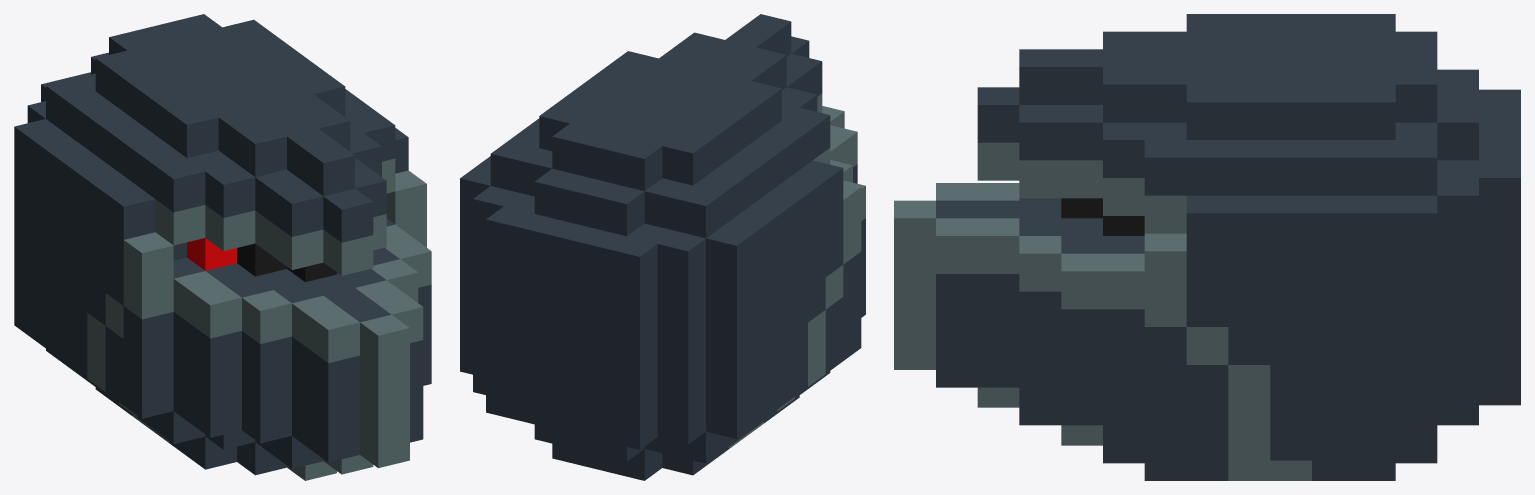
The model's file is Head.obj.
3 renders of one model, left to right at view 1: azimuth 30°, elevation 25°; view 2: azimuth 150°, elevation 25°; view 3: azimuth 270°, elevation 25°, orthographic. The views are drawn at different scales.
Bounding box in the file's own units: 9 × 10 × 15.
1 material, 1 textured.
